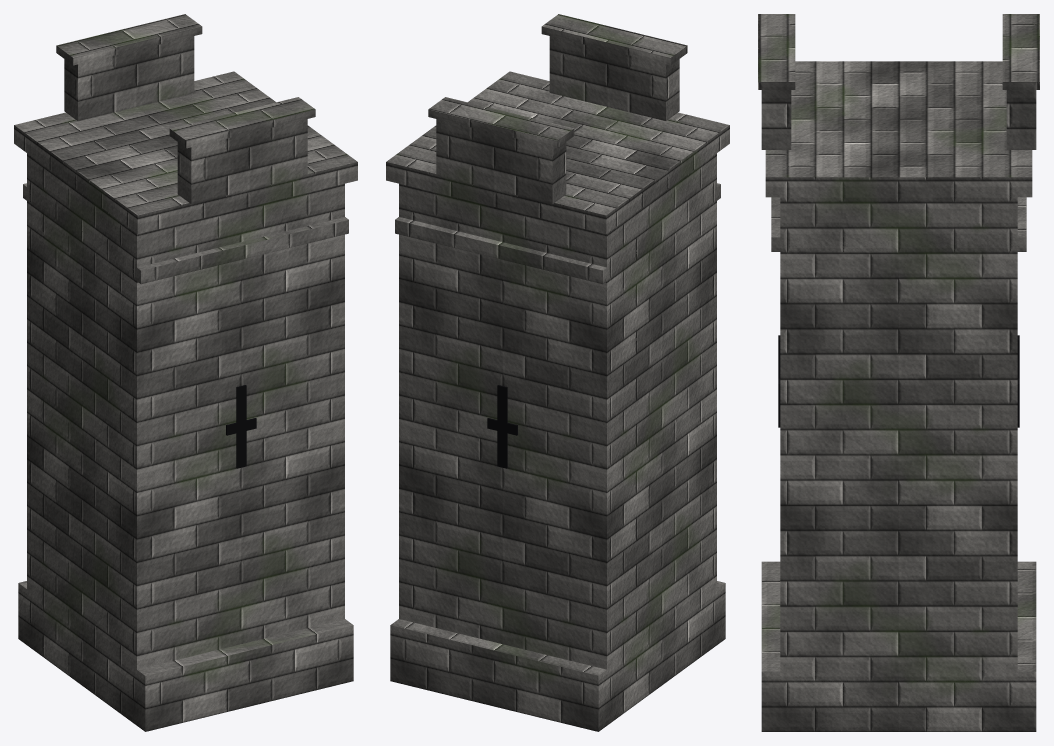
Rendered from pier.obj.
3 renders of one model, left to right at view 1: azimuth 30°, elevation 25°; view 2: azimuth 150°, elevation 25°; view 3: azimuth 270°, elevation 25°, orthographic. The views are drawn at different scales.
Bounding box in the file's own units: 3.7 × 9.36 × 3.8.
Materials: 2 (1 with a texture image).
